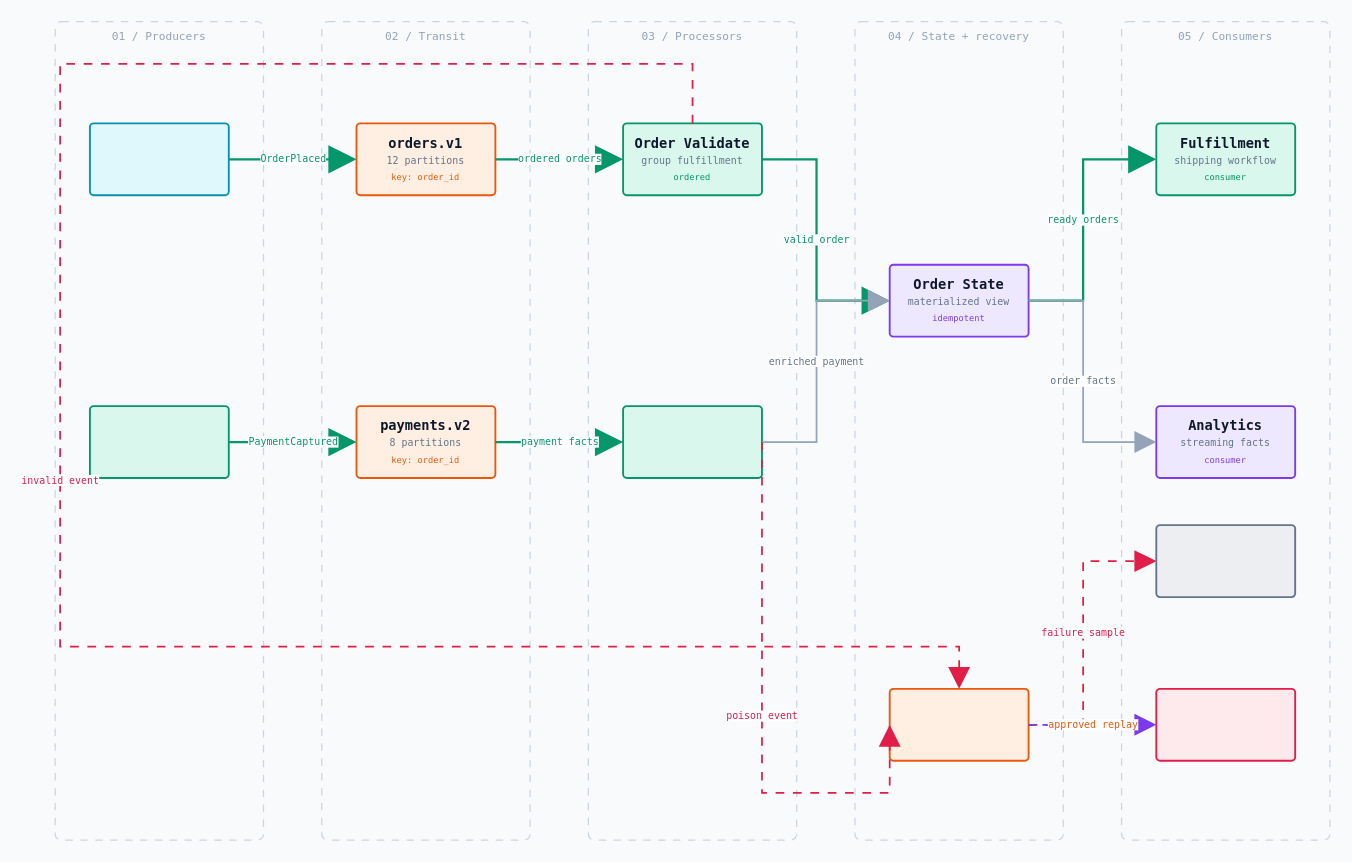
The diagram is 1352 pixels wide and 862 high, and some of its shapes have lost their labels. Here are the shapes that lost their labels. From the top down, the centre of each, then its label:
At point 158,159: "Checkout API order producer team commerce".
At point 158,441: "Billing API payment producer team money".
At point 692,441: "Payment Enrich group analytics at-least-once".
At point 1225,560: "On-call DLQ owner SRE".
At point 958,724: "events.dlq poison events 7-day retention".
At point 1225,724: "Replay Tool approved batch operator gate".
